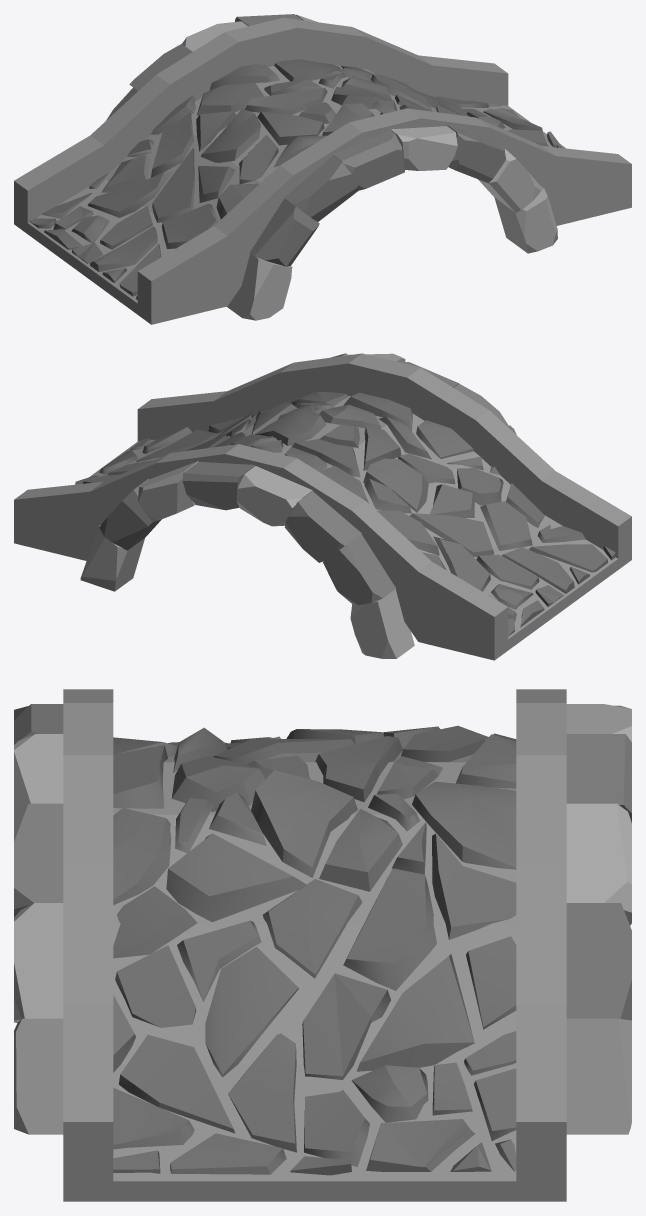
File: brudge.fbx
3 renders of one model, top to bottom at view 1: azimuth 30°, elevation 25°; view 2: azimuth 150°, elevation 25°; view 3: azimuth 270°, elevation 25°, orthographic. The views are drawn at different scales.
Visible parts, largest first — view 1: pasted__polySurface5585; view 2: pasted__polySurface5585; view 3: pasted__polySurface5585.
Boxes of the visible parts, x1=… form: pasted__polySurface5585: x1=14, y1=14, x2=631, y2=324; pasted__polySurface5585: x1=14, y1=353, x2=631, y2=660; pasted__polySurface5585: x1=14, y1=689, x2=631, y2=1201.
Bounding box in the file's own units: 1035 × 309 × 630.
